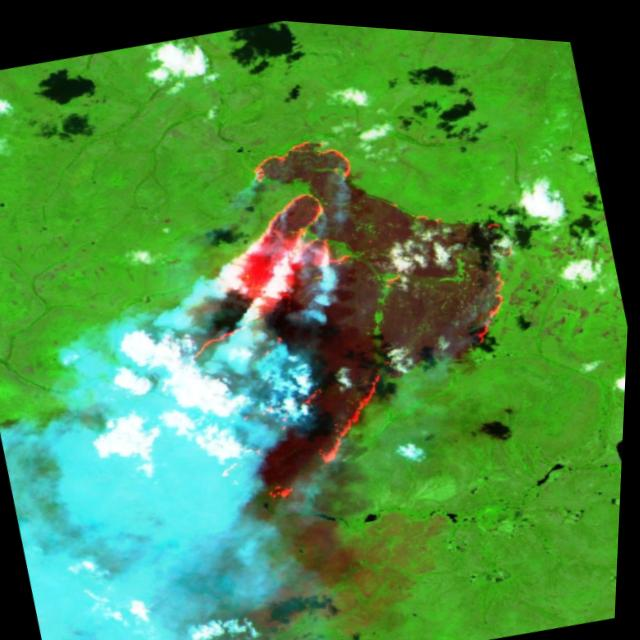fire: (95, 78, 572, 541)
